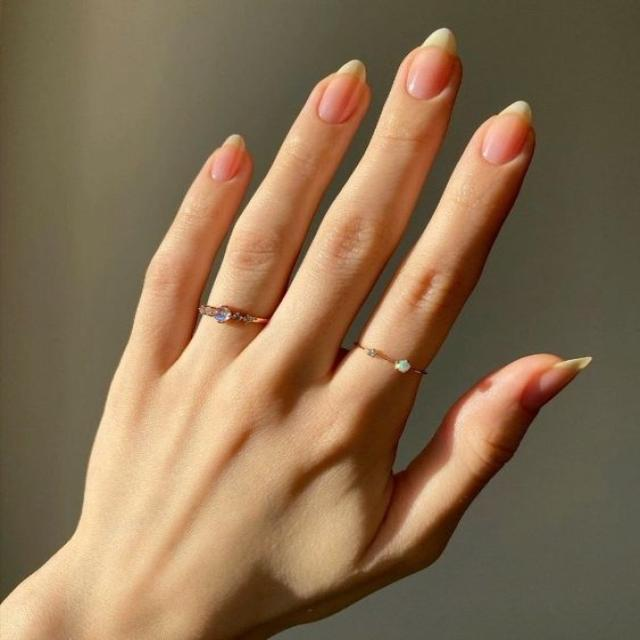Fingernail: (523, 357, 591, 415), (407, 28, 456, 99), (481, 100, 532, 165), (319, 60, 366, 124), (211, 134, 245, 183)
